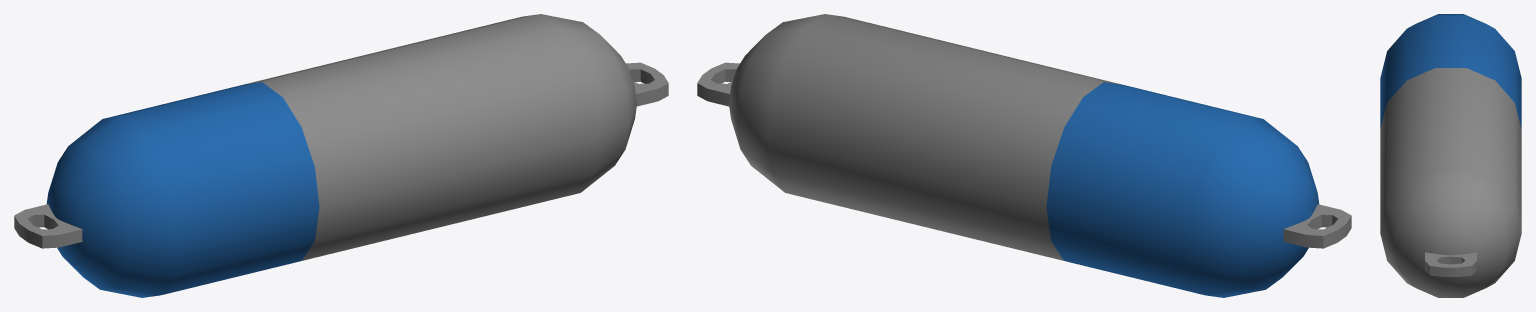
File: prop_29.FBX
3 views of the same model, side by side, from view 1: azimuth 30°, elevation 25°; view 2: azimuth 150°, elevation 25°; view 3: azimuth 270°, elevation 25° (orthographic). The views are drawn at different scales.
Visible parts, largest first — view 1: prop_29; view 2: prop_29; view 3: prop_29.
Boxes of the visible parts, bbox=[...] form: prop_29: bbox=[14, 14, 668, 297]; prop_29: bbox=[697, 14, 1351, 297]; prop_29: bbox=[1380, 14, 1521, 297].
Bounding box in the file's own units: 42.42 × 10.61 × 10.88.
